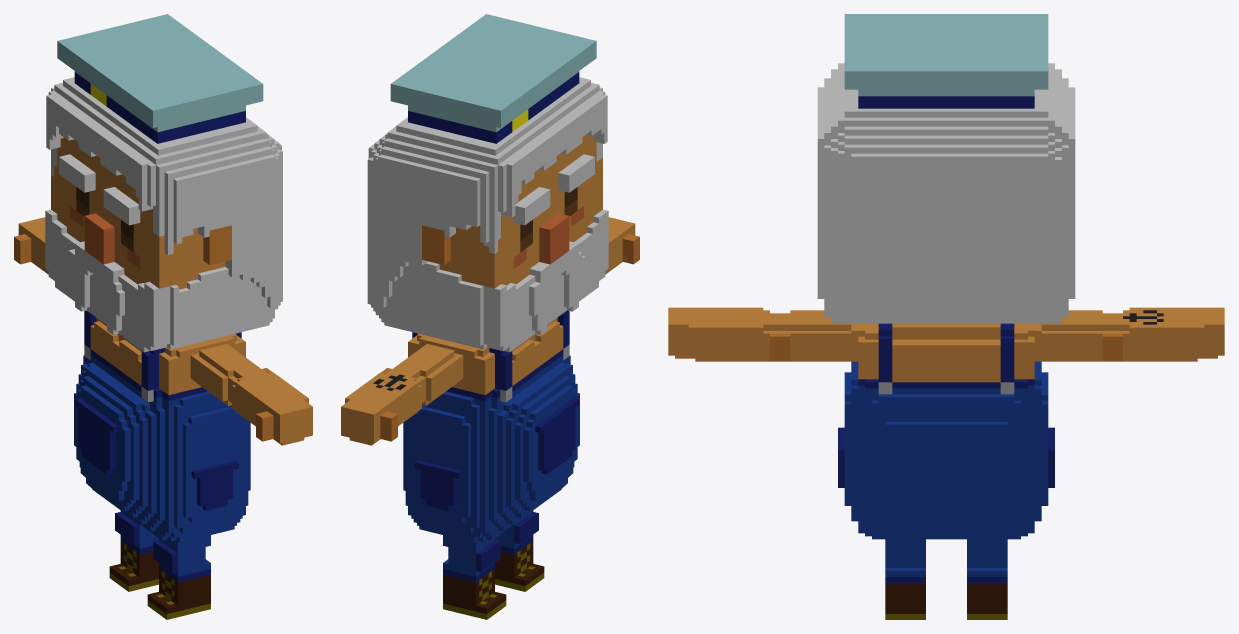
The model's file is Pers_Pescador_Original.fbx.
3 renders of one model, left to right at view 1: azimuth 30°, elevation 25°; view 2: azimuth 150°, elevation 25°; view 3: azimuth 270°, elevation 25°, orthographic. The views are drawn at different scales.
Visible parts, largest first — view 1: Mesh; view 2: Mesh; view 3: Mesh.
Part boxes in pixels (box(x1,y1,x2,y2)): Mesh: box(14, 14, 312, 619); Mesh: box(341, 14, 639, 619); Mesh: box(668, 14, 1224, 619).
Size of the model in its own units: 65 by 230 by 205.
1 material, 1 textured.
